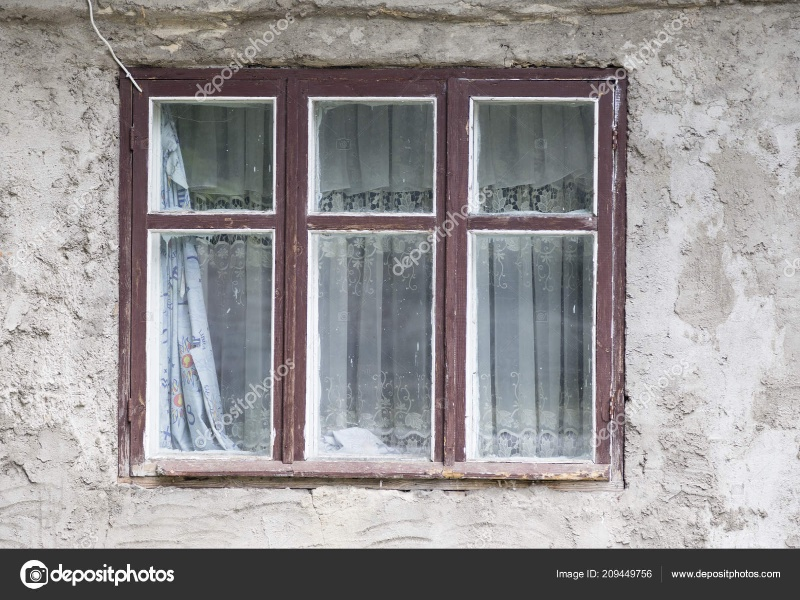window: (120, 65, 627, 481)
